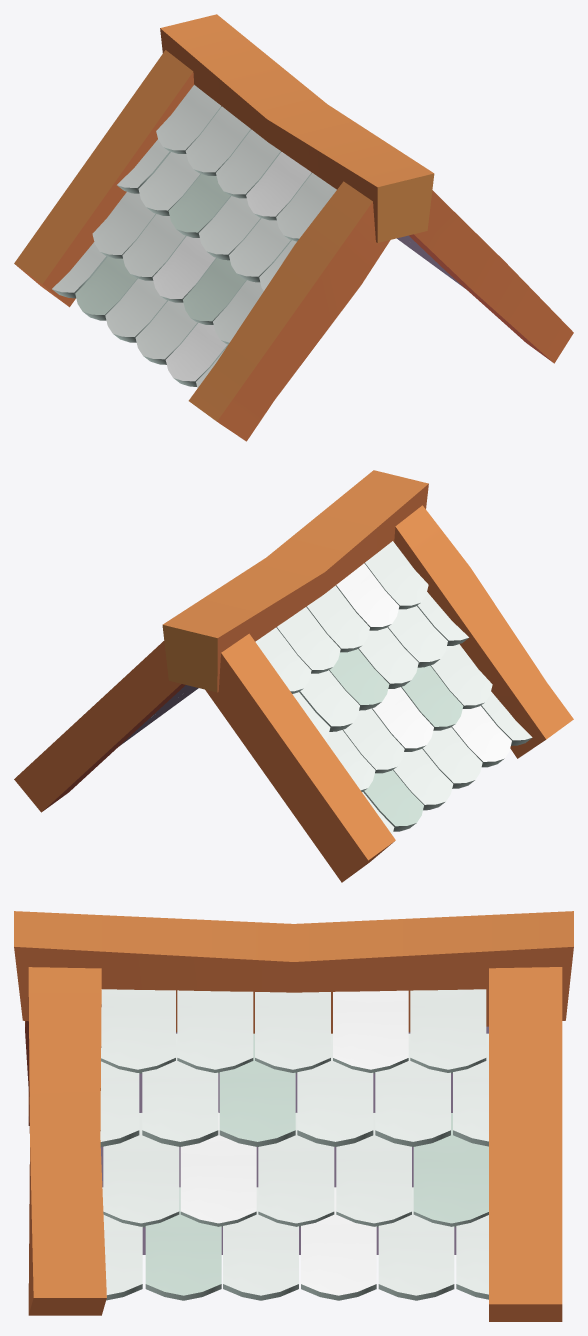
The model's file is Roof01_White_Wood.glb.
3 renders of one model, top to bottom at view 1: azimuth 30°, elevation 25°; view 2: azimuth 150°, elevation 25°; view 3: azimuth 270°, elevation 25°, orthographic. The views are drawn at different scales.
Parts seen in each view (by area): view 1: Roof01_White_Wood; view 2: Roof01_White_Wood; view 3: Roof01_White_Wood.
Part boxes in pixels (left/top/right/bottom): Roof01_White_Wood: left=14, top=14, right=573, bottom=441; Roof01_White_Wood: left=14, top=470, right=573, bottom=882; Roof01_White_Wood: left=14, top=911, right=573, bottom=1321.
Bounding box in the file's own units: 2.41 × 1.43 × 2.46.
Materials: 1 (1 with a texture image).
